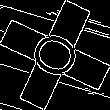O_SE: (23, 25, 87, 85)
